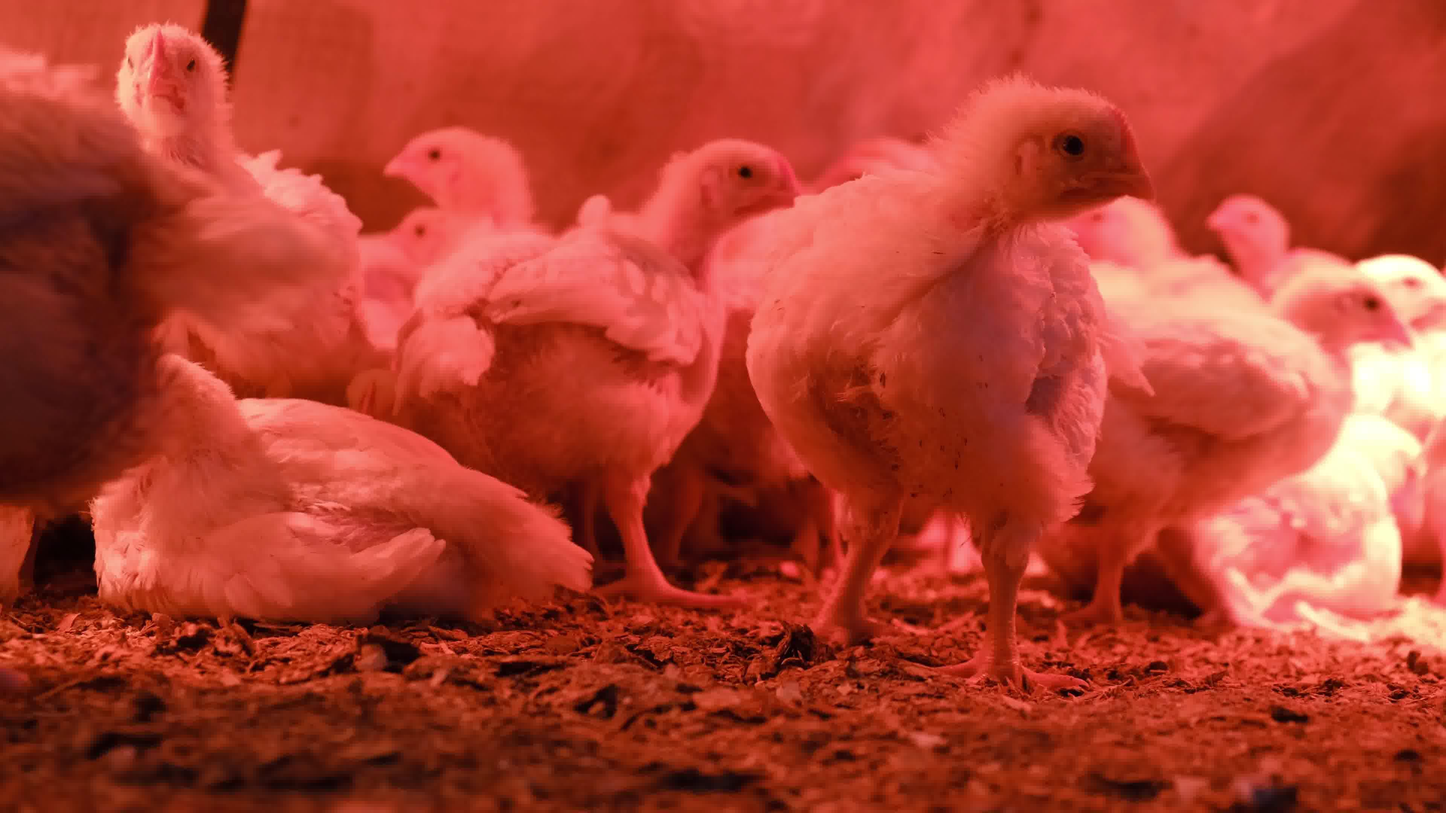AbNormal: (90, 349, 586, 625), (1045, 420, 1428, 623)
Normal: (741, 74, 1160, 687), (391, 136, 810, 611), (2, 51, 349, 483), (1024, 271, 1414, 634), (119, 23, 358, 393), (377, 126, 545, 228), (1202, 190, 1346, 271), (386, 200, 466, 277)
